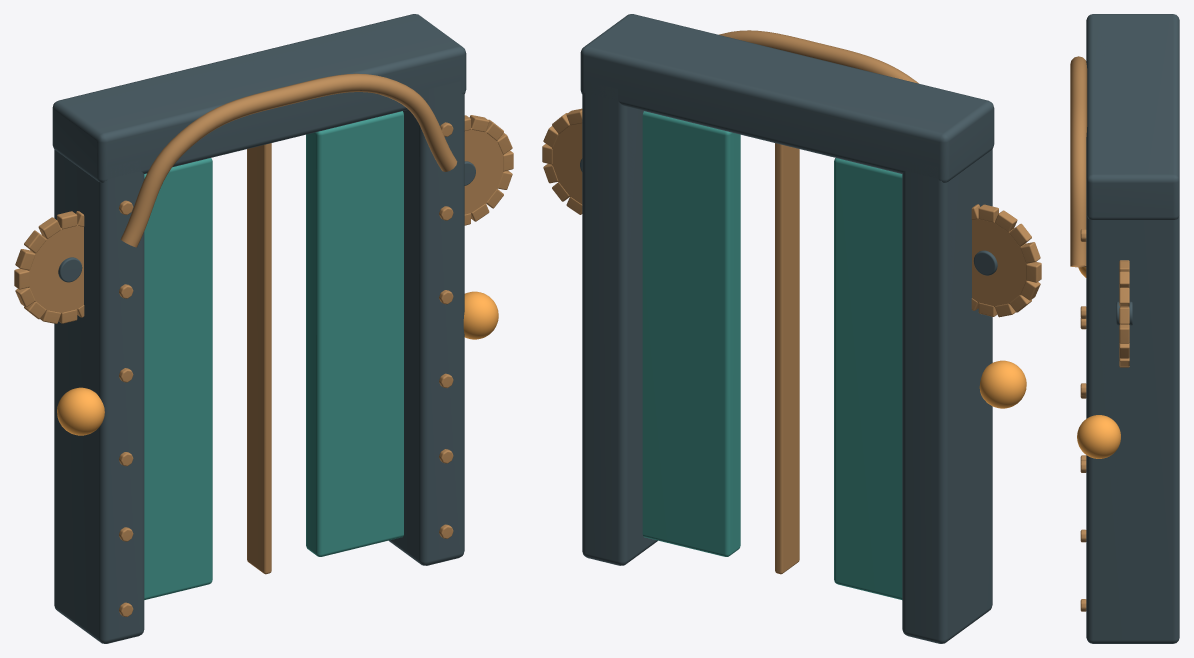
The model's file is ExitGate.fbx.
3 renders of one model, left to right at view 1: azimuth 30°, elevation 25°; view 2: azimuth 150°, elevation 25°; view 3: azimuth 270°, elevation 25°, orthographic. The views are drawn at different scales.
Parts seen in each view (by area): view 1: ExitGate; view 2: ExitGate; view 3: ExitGate.
Boxes of the visible parts, left/top/right/bottom form: ExitGate: left=14, top=14, right=513, bottom=643; ExitGate: left=542, top=14, right=1041, bottom=643; ExitGate: left=1070, top=14, right=1179, bottom=643.
Size of the model in its own units: 309 by 64.5 by 310.
